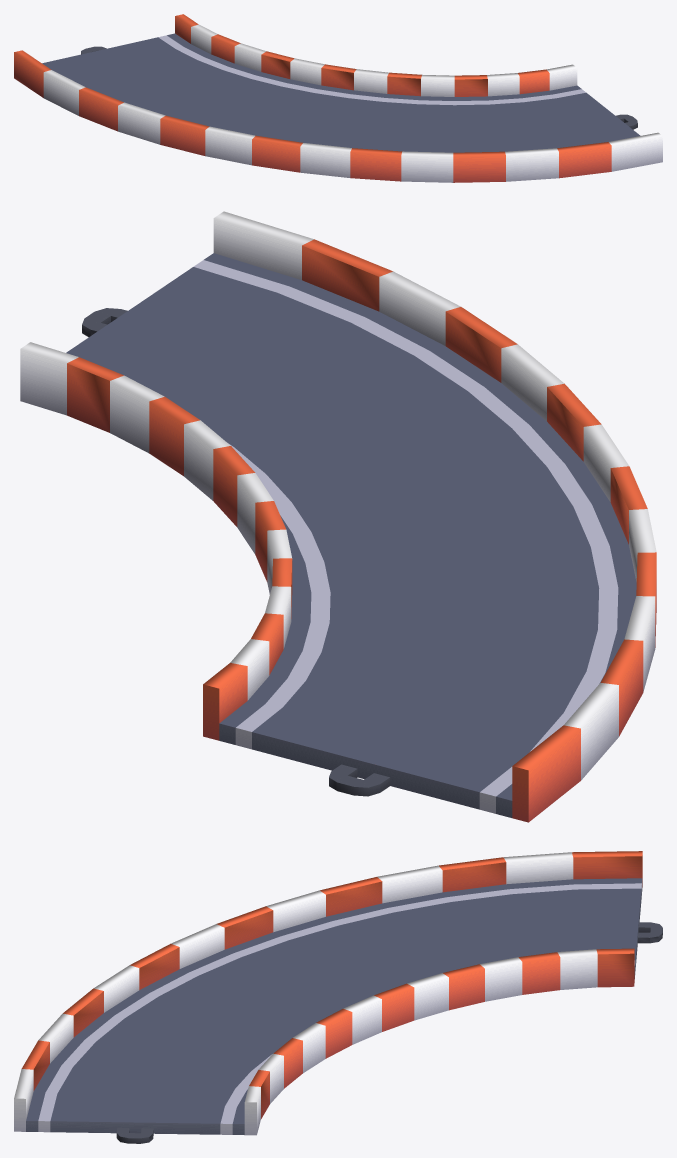
The model's file is track-road-wide-corner-large.017_lev2_lev3.glb.
The picture shows the model from 3 angles, top to bottom: view 1: azimuth 30°, elevation 25°; view 2: azimuth 150°, elevation 25°; view 3: azimuth 270°, elevation 25°; orthographic projection. The views are drawn at different scales.
Visible parts, largest first — view 1: track-road-wide-corner-large.017_lev2_lev3; view 2: track-road-wide-corner-large.017_lev2_lev3; view 3: track-road-wide-corner-large.017_lev2_lev3.
Part boxes in pixels (box(x1,y1,x2,y2)): track-road-wide-corner-large.017_lev2_lev3: box(14, 14, 662, 182); track-road-wide-corner-large.017_lev2_lev3: box(20, 211, 656, 822); track-road-wide-corner-large.017_lev2_lev3: box(14, 851, 662, 1143).
Bounding box in the file's own units: 5.06 × 0.3 × 5.34.
Materials: 1 (1 with a texture image).
